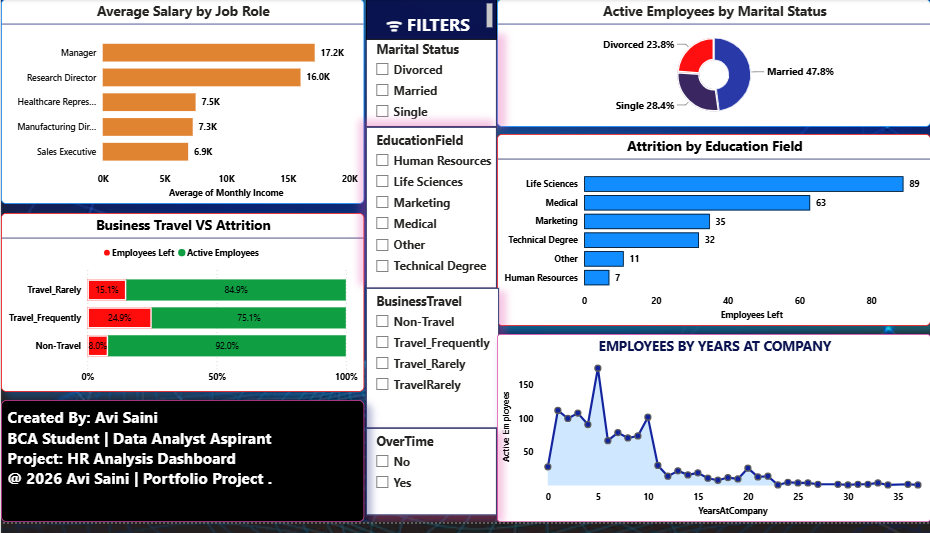

The page's visual inventory and layout, read from the dashboard file:
{"tool":"powerbi","page":{"name":"Filtering","canvas":[1280,720],"ordinal":1},"visuals":[{"type":"clusteredBarChart","title":"Average Salary by Job Role","fields":{"Y":["Avg(HR_Analytics.MonthlyIncome)"],"Category":["HR_Analytics.JobRole"]},"box":[0,0,499.6,282.2],"z":0},{"type":"donutChart","title":"Active Employees by Marital Status","fields":{"Category":["HR_Analytics.MaritalStatus"],"Y":["HR_Analytics.Active Employees"]},"box":[682.7,0,597.3,176.2],"z":1000},{"type":"clusteredBarChart","title":"Attrition by Education Field","fields":{"Category":["HR_Analytics.EducationField"],"Y":["HR_Analytics.Employees Left"]},"box":[682.7,185.3,597.3,264],"z":2000},{"type":"hundredPercentStackedBarChart","title":"Business Travel VS Attrition","fields":{"Category":["HR_Analytics.BusinessTravel"],"Y":["HR_Analytics.Employees Left","HR_Analytics.Active Employees"]},"box":[0,294.5,499.6,246.4],"z":3000},{"type":"slicer","fields":{"Values":["HR_Analytics.MaritalStatus"]},"box":[502.4,50.9,180.3,125.2],"z":4000},{"type":"textbox","box":[502.4,0,180.3,56.4],"z":5000},{"type":"slicer","fields":{"Values":["HR_Analytics.EducationField"]},"box":[502.4,176.2,180.3,221.6],"z":6000},{"type":"slicer","fields":{"Values":["HR_Analytics.BusinessTravel"]},"box":[502.4,397.8,183.1,192.7],"z":7000},{"type":"lineChart","title":"EMPLOYEES BY YEARS AT COMPANY","fields":{"Y":["HR_Analytics.Active Employees"],"Category":["HR_Analytics.YearsAtCompany"]},"box":[682.7,461.1,597.3,258.8],"z":8000},{"type":"slicer","fields":{"Values":["HR_Analytics.OverTime"]},"box":[502.4,590.5,180.3,119.7],"z":9000},{"type":"textbox","box":[0,551.9,499.6,167.9],"z":9001}]}

Visuals, with their boxes in screenshot pixels (x1, y1, x2, y2), scaled from the page's 1280x720 canvas onto the 930x533 screenshot:
"Average Salary by Job Role" clusteredBarChart: 0 0 363 209
"Active Employees by Marital Status" donutChart: 496 0 929 130
"Attrition by Education Field" clusteredBarChart: 496 137 929 333
"Business Travel VS Attrition" hundredPercentStackedBarChart: 0 218 363 400
slicer - HR_Analytics.MaritalStatus: 365 38 496 130
textbox: 365 0 496 42
slicer - HR_Analytics.EducationField: 365 130 496 294
slicer - HR_Analytics.BusinessTravel: 365 294 498 437
"EMPLOYEES BY YEARS AT COMPANY" lineChart: 496 341 929 532
slicer - HR_Analytics.OverTime: 365 437 496 526
textbox: 0 409 363 532
